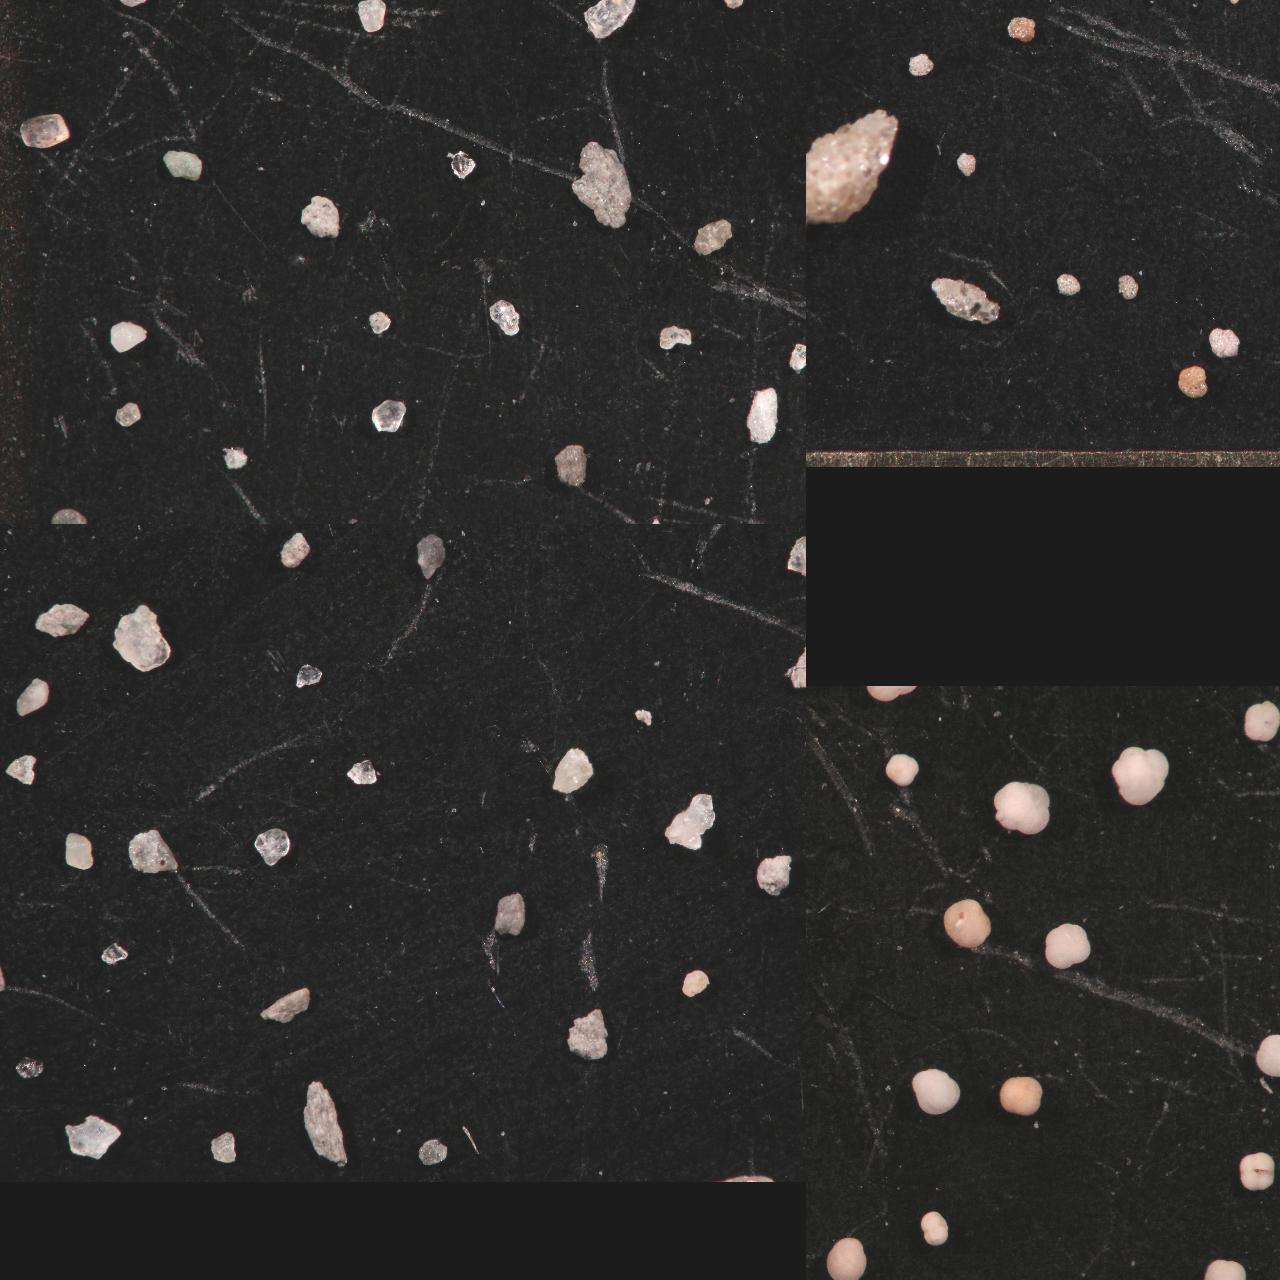Sediment: (568, 139, 631, 229), (113, 604, 172, 674), (300, 1080, 348, 1166), (665, 794, 715, 851), (62, 1115, 122, 1160), (127, 829, 179, 873), (565, 1008, 608, 1062), (583, 0, 636, 40), (258, 986, 312, 1024), (551, 745, 593, 795), (19, 113, 72, 150), (33, 604, 89, 639), (747, 386, 779, 444), (298, 196, 340, 238), (755, 851, 794, 897), (491, 892, 526, 938), (414, 531, 445, 580), (253, 828, 293, 866), (692, 219, 733, 257), (554, 443, 590, 485), (14, 679, 50, 717), (747, 0, 806, 22), (784, 631, 806, 690), (108, 320, 149, 352), (162, 149, 203, 179), (369, 400, 407, 433), (63, 831, 95, 870), (486, 300, 519, 336), (4, 753, 38, 785), (279, 532, 309, 567), (355, 0, 386, 33), (207, 1130, 236, 1164), (445, 150, 476, 181), (658, 324, 692, 350), (38, 0, 79, 22), (111, 399, 143, 427), (784, 536, 806, 576), (345, 757, 377, 784), (430, 524, 477, 543), (416, 1138, 448, 1165), (237, 0, 281, 19), (679, 971, 709, 998), (219, 443, 248, 469), (98, 940, 128, 966), (294, 663, 324, 688), (0, 524, 28, 549), (12, 1058, 45, 1080), (723, 0, 757, 20), (365, 309, 392, 334), (410, 0, 448, 18), (111, 0, 148, 18), (49, 508, 88, 524), (297, 0, 336, 15), (787, 343, 806, 373), (132, 524, 175, 537), (529, 0, 561, 16), (754, 524, 787, 540), (46, 0, 77, 16), (716, 0, 748, 15), (0, 961, 12, 992), (633, 709, 653, 727), (421, 0, 445, 13), (484, 0, 505, 13), (644, 516, 661, 524)
agglutinated: (806, 111, 899, 267), (928, 278, 1001, 324), (1177, 365, 1207, 399), (1206, 327, 1239, 358), (1005, 16, 1035, 41), (1037, 0, 1078, 18), (907, 53, 935, 75), (872, 0, 905, 19), (1056, 274, 1082, 295), (1117, 274, 1139, 298), (1225, 0, 1246, 25), (955, 154, 976, 177), (883, 0, 915, 14), (806, 0, 831, 19), (806, 0, 835, 14), (806, 0, 821, 18), (806, 0, 828, 12), (806, 0, 821, 14), (806, 0, 821, 13)
planktic: (1109, 744, 1171, 806), (989, 779, 1051, 835), (941, 898, 993, 948), (910, 1067, 960, 1115), (1043, 922, 1092, 971), (823, 1235, 869, 1280), (996, 1075, 1043, 1117), (806, 922, 838, 979), (1235, 1151, 1278, 1191), (806, 689, 835, 749), (1242, 700, 1280, 742), (806, 1023, 835, 1076), (883, 751, 921, 787), (806, 821, 831, 874), (915, 1208, 949, 1247), (1253, 1032, 1280, 1080), (806, 843, 832, 888), (806, 905, 830, 954), (806, 1012, 830, 1061), (806, 1240, 833, 1280), (1203, 1258, 1250, 1280), (863, 686, 919, 702), (806, 1156, 829, 1197), (806, 685, 831, 721), (806, 1076, 828, 1118), (806, 821, 826, 858), (806, 1250, 829, 1280), (806, 1172, 826, 1204), (806, 787, 821, 812), (806, 1097, 818, 1121)
